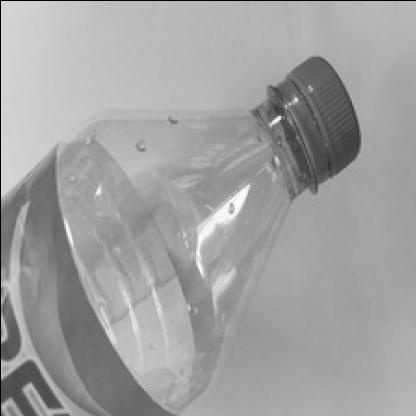plastic_bottles: (2, 45, 363, 416)
